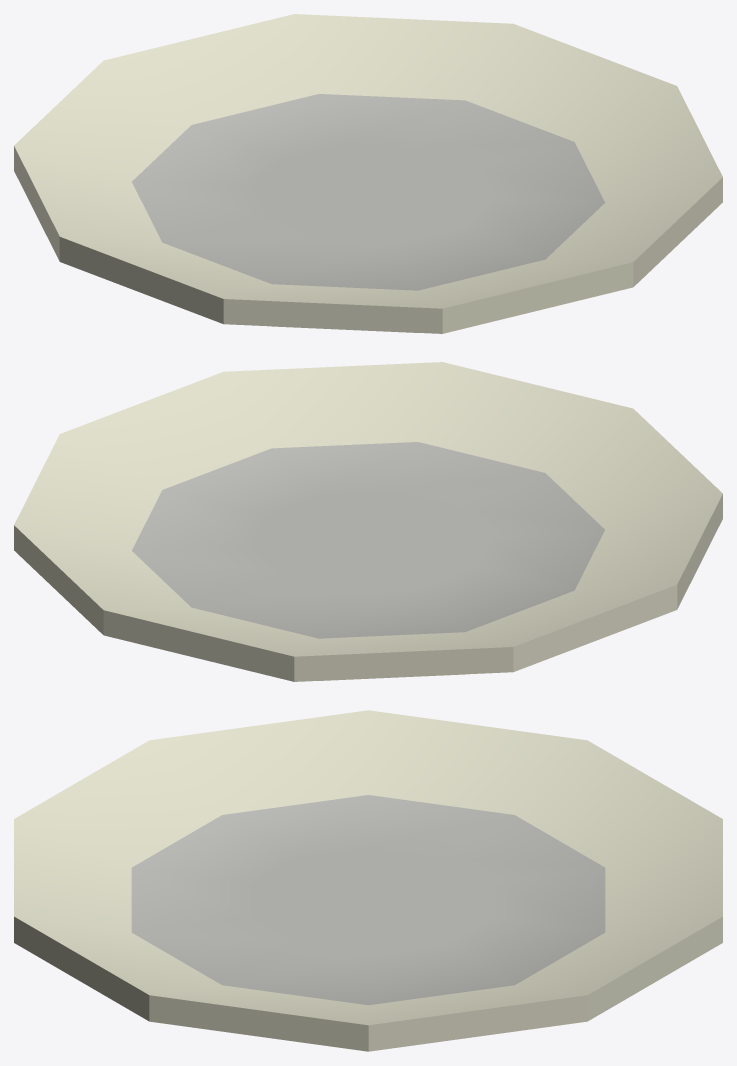
File: Plate.fbx
3 renders of one model, top to bottom at view 1: azimuth 30°, elevation 25°; view 2: azimuth 150°, elevation 25°; view 3: azimuth 270°, elevation 25°, orthographic. The views are drawn at different scales.
Parts seen in each view (by area): view 1: Plate; view 2: Plate; view 3: Plate.
Part boxes in pixels (<box>): Plate: <box>14,14,722,333</box>; Plate: <box>14,362,722,681</box>; Plate: <box>14,710,722,1051</box>.
Bounding box in the file's own units: 34.67 × 3.93 × 32.98.
